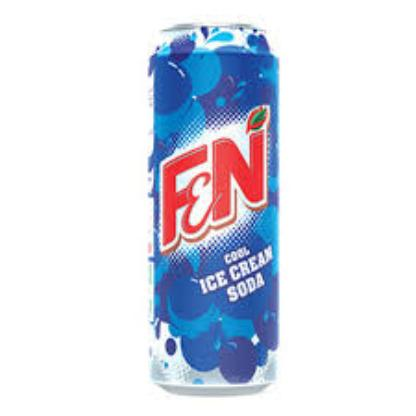Can: (148, 22, 278, 394)
